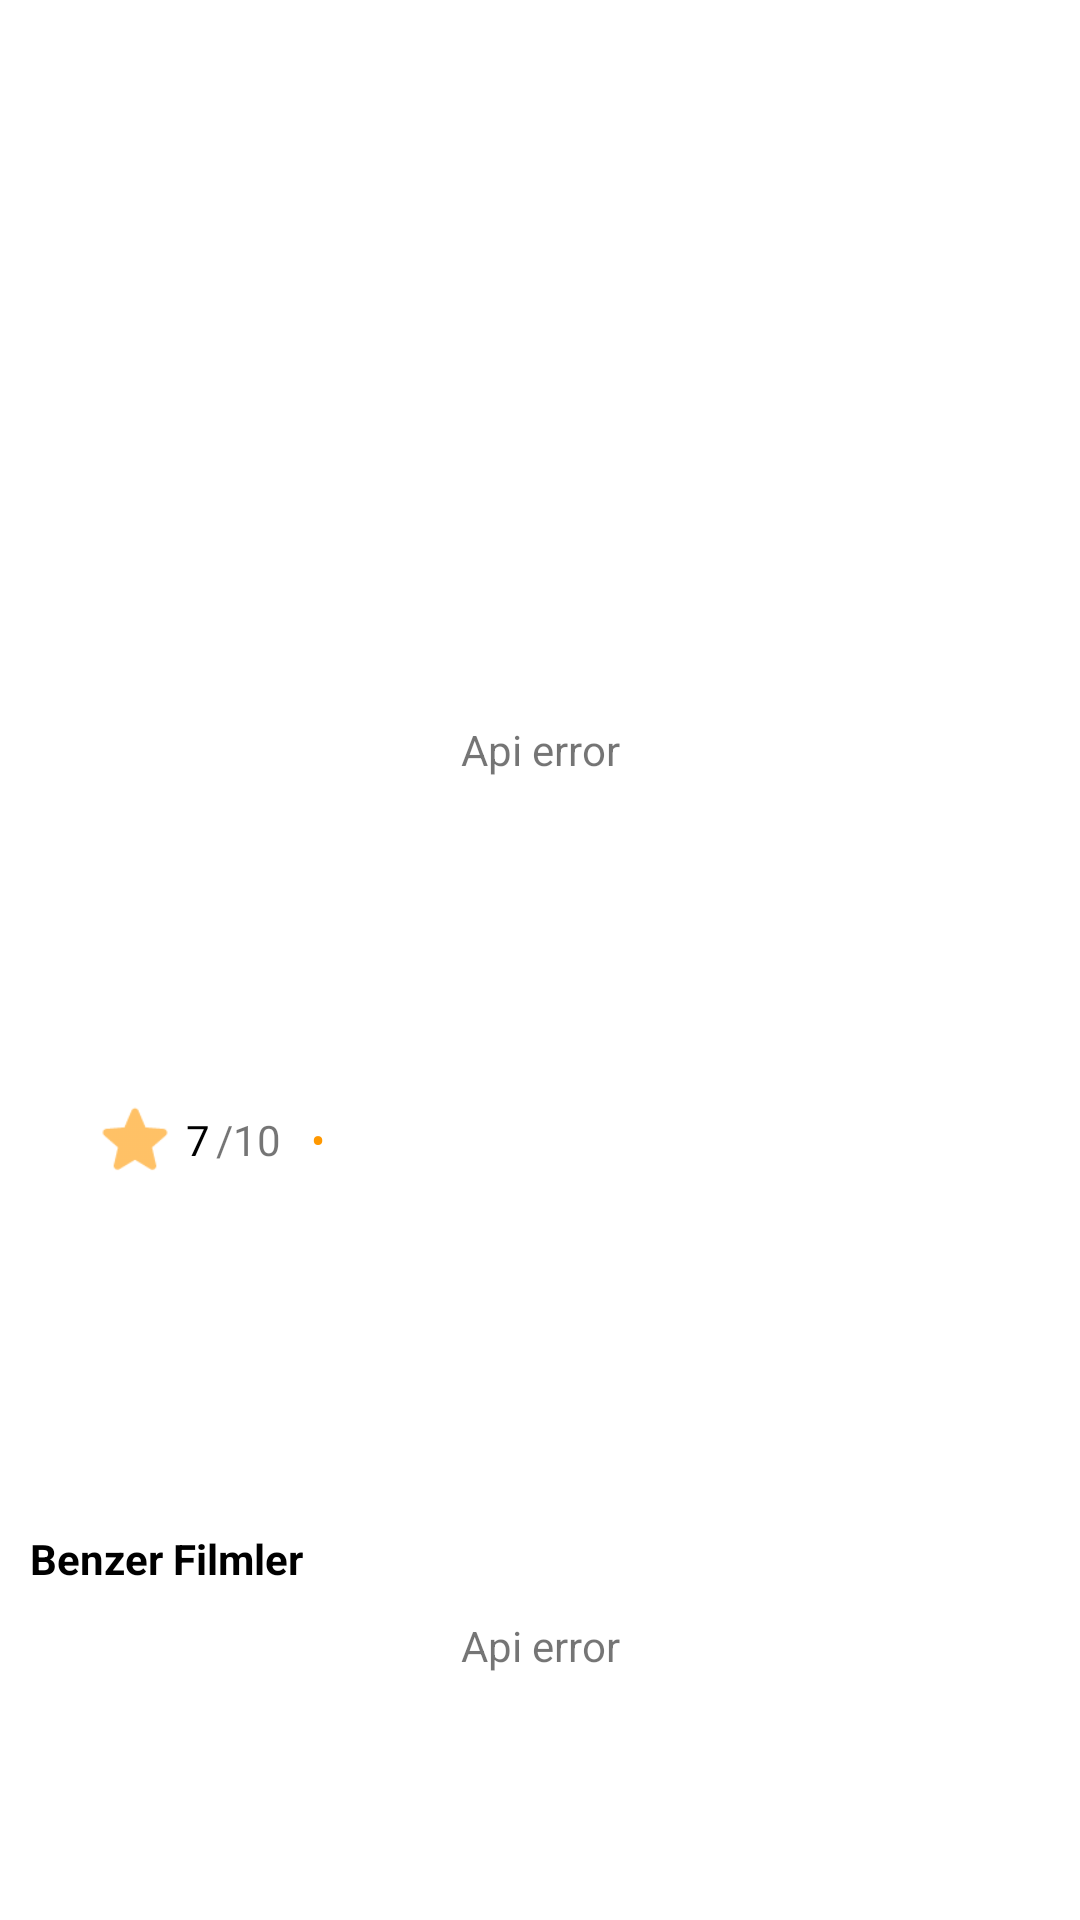

Named icons in this screenshot (1080w x 1920h) and their centers, point (x, y):
star: point (135, 1139)
